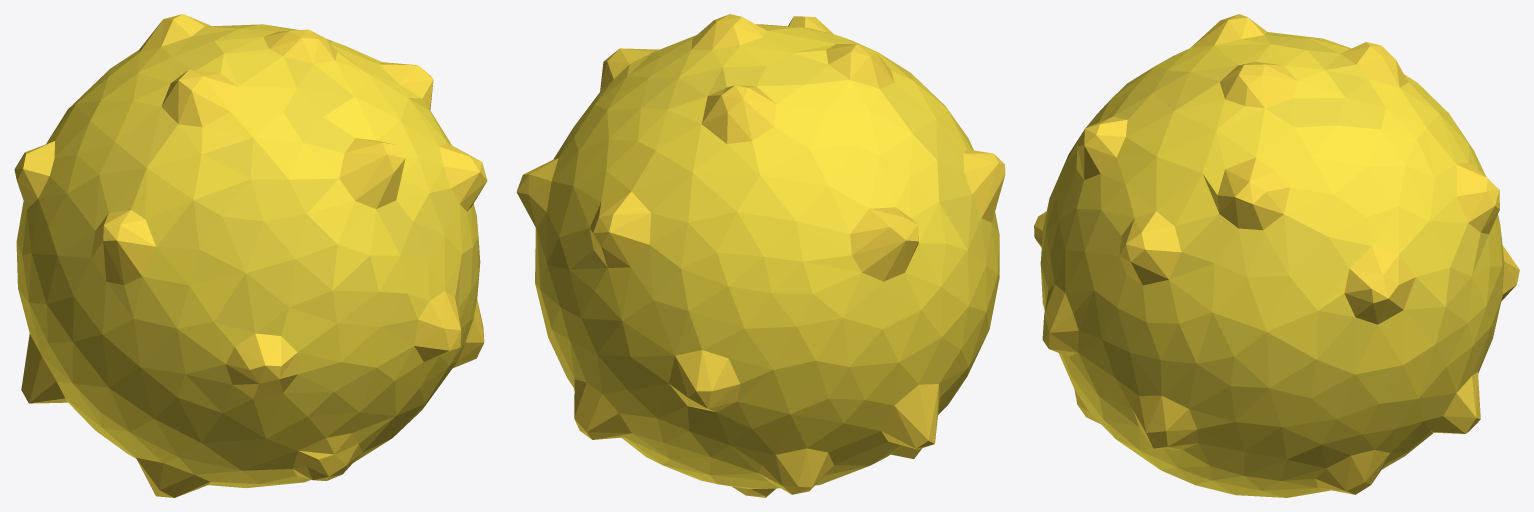
File: Sun.fbx
3 renders of one model, left to right at view 1: azimuth 30°, elevation 25°; view 2: azimuth 150°, elevation 25°; view 3: azimuth 270°, elevation 25°, orthographic.
Parts seen in each view (by area): view 1: Sun; view 2: Sun; view 3: Sun.
Part boxes in pixels (left/top/right/bottom): Sun: left=14, top=14, right=487, bottom=497; Sun: left=516, top=14, right=1005, bottom=497; Sun: left=1034, top=14, right=1519, bottom=497.
Bounding box in the file's own units: 34.12 × 36.5 × 35.74.
Materials: 1 (1 with a texture image).
